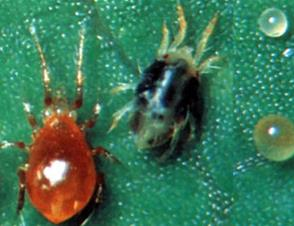Mites: (4, 37, 108, 226), (122, 21, 228, 183)
